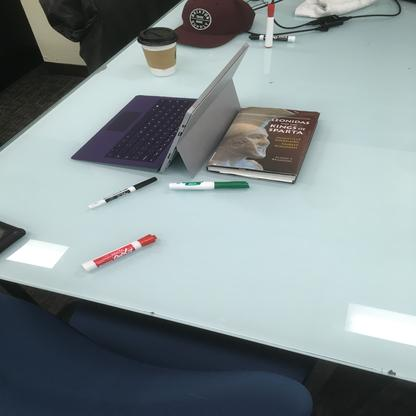expo_marker: (77, 232, 159, 274), (84, 174, 162, 210), (165, 179, 255, 192)
